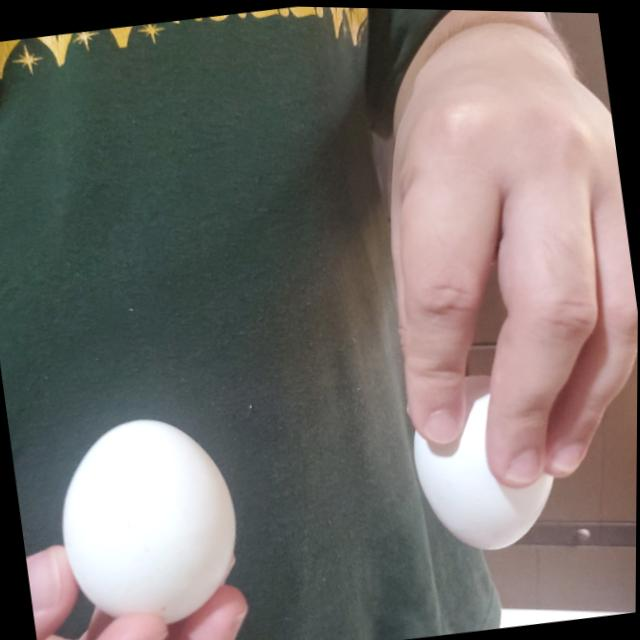egg: (47, 398, 253, 631), (405, 374, 563, 553)
